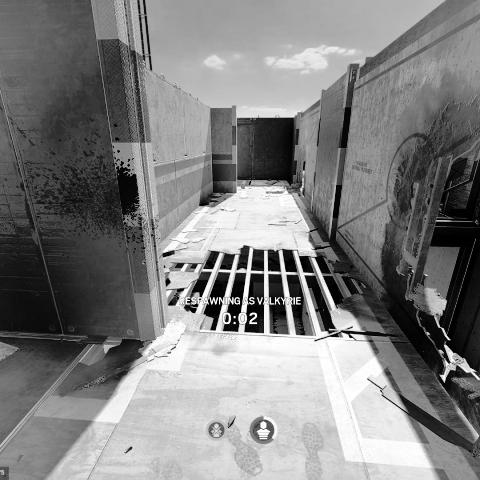Character: (212, 284, 224, 290)
